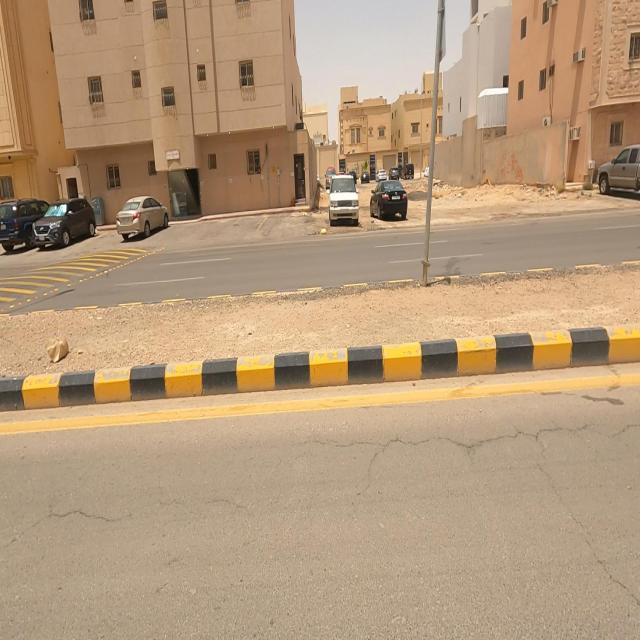Graffiti: (499, 154, 530, 182)
